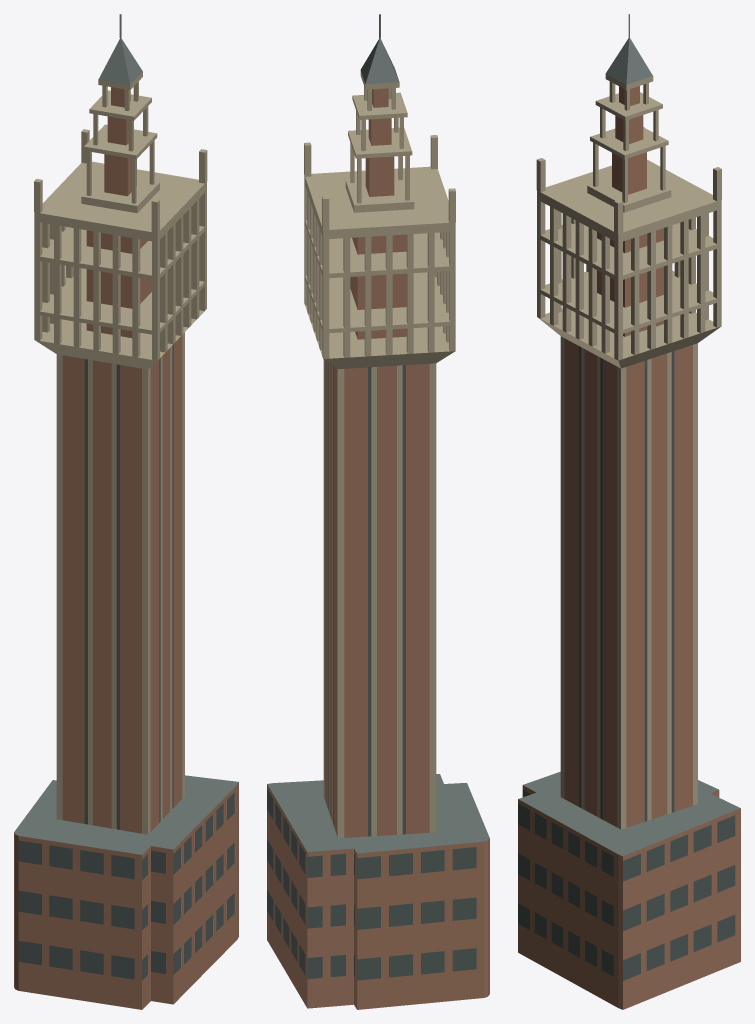
Rendered from beffroi-hotel-de-ville-lille-near.glb.
3 views of the same model, side by side, from view 1: azimuth 30°, elevation 25°; view 2: azimuth 150°, elevation 25°; view 3: azimuth 270°, elevation 25° (orthographic).
Visible parts, largest first — view 1: beffroi-hotel-de-ville-lille-0-brick, beffroi-hotel-de-ville-lille-0-stone, beffroi-hotel-de-ville-lille-0-glass, beffroi-hotel-de-ville-lille-0-pier, beffroi-hotel-de-ville-lille-0-roof; view 2: beffroi-hotel-de-ville-lille-0-brick, beffroi-hotel-de-ville-lille-0-stone, beffroi-hotel-de-ville-lille-0-glass, beffroi-hotel-de-ville-lille-0-pier, beffroi-hotel-de-ville-lille-0-roof; view 3: beffroi-hotel-de-ville-lille-0-brick, beffroi-hotel-de-ville-lille-0-stone, beffroi-hotel-de-ville-lille-0-glass, beffroi-hotel-de-ville-lille-0-pier, beffroi-hotel-de-ville-lille-0-roof.
Boxes of the visible parts, left/top/right/bottom form: beffroi-hotel-de-ville-lille-0-brick: left=14, top=87, right=238, bottom=1009; beffroi-hotel-de-ville-lille-0-stone: left=34, top=72, right=207, bottom=834; beffroi-hotel-de-ville-lille-0-glass: left=18, top=344, right=234, bottom=980; beffroi-hotel-de-ville-lille-0-pier: left=34, top=191, right=206, bottom=360; beffroi-hotel-de-ville-lille-0-roof: left=14, top=38, right=238, bottom=854; beffroi-hotel-de-ville-lille-0-brick: left=267, top=88, right=489, bottom=1009; beffroi-hotel-de-ville-lille-0-stone: left=304, top=71, right=455, bottom=838; beffroi-hotel-de-ville-lille-0-glass: left=267, top=362, right=476, bottom=980; beffroi-hotel-de-ville-lille-0-pier: left=304, top=184, right=455, bottom=358; beffroi-hotel-de-ville-lille-0-roof: left=267, top=38, right=489, bottom=853; beffroi-hotel-de-ville-lille-0-brick: left=518, top=86, right=740, bottom=1009; beffroi-hotel-de-ville-lille-0-stone: left=536, top=74, right=721, bottom=829; beffroi-hotel-de-ville-lille-0-glass: left=518, top=346, right=735, bottom=980; beffroi-hotel-de-ville-lille-0-pier: left=537, top=199, right=721, bottom=360; beffroi-hotel-de-ville-lille-0-roof: left=518, top=38, right=740, bottom=856.
Bounding box in the file's own units: 25.42 × 104 × 22.34.
